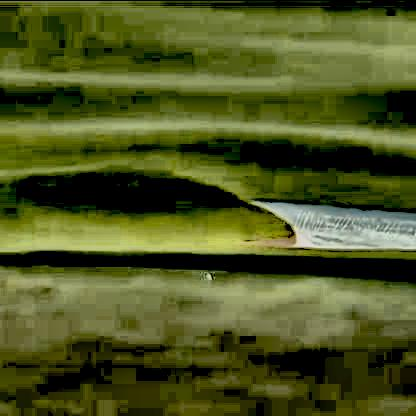golfball: (203, 269, 210, 279)
